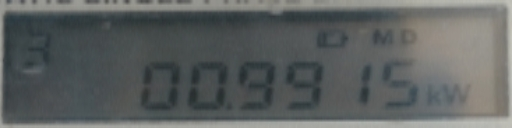0: (132, 55, 182, 117), (189, 50, 227, 114)
1: (357, 55, 373, 111)
5: (381, 56, 421, 110)
9: (236, 49, 276, 117), (283, 55, 327, 112)
d: (227, 102, 235, 116)
